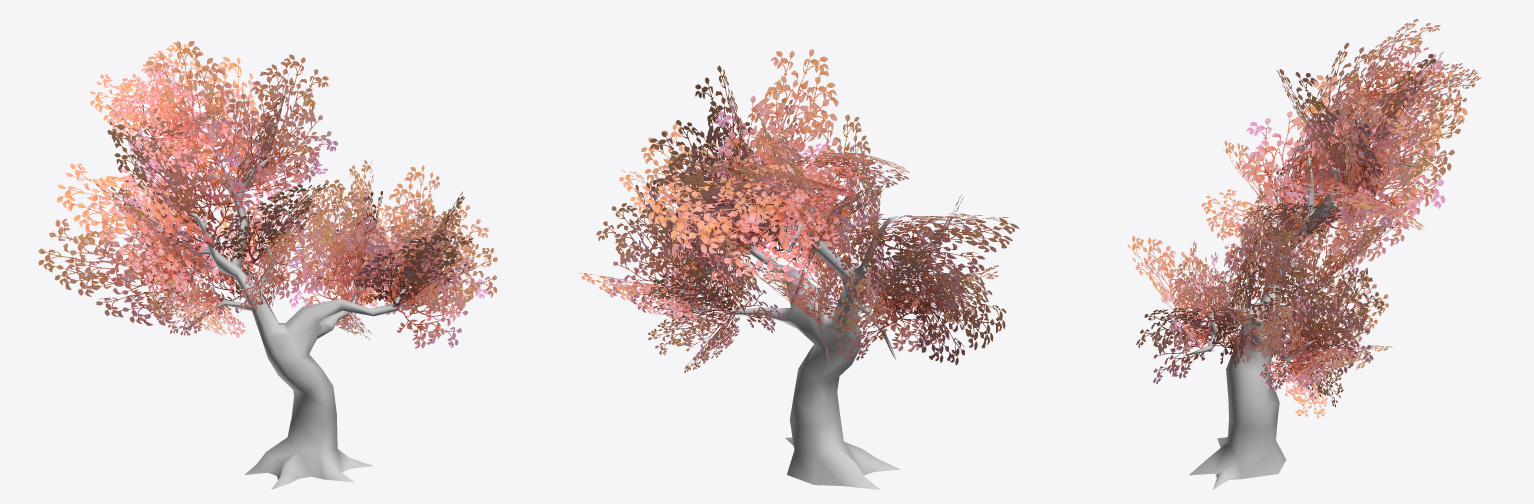
The model's file is SM_EN_2011_shu01.FBX.
3 views of the same model, side by side, from view 1: azimuth 30°, elevation 25°; view 2: azimuth 150°, elevation 25°; view 3: azimuth 270°, elevation 25° (orthographic). The views are drawn at different scales.
Visible parts, largest first — view 1: SM_EN_2011_shu0102, SM_EN_2011_shu0101; view 2: SM_EN_2011_shu0102, SM_EN_2011_shu0101; view 3: SM_EN_2011_shu0102, SM_EN_2011_shu0101.
Part boxes in pixels (x1,y1,x2,y2): SM_EN_2011_shu0102: (38, 41, 497, 348); SM_EN_2011_shu0101: (154, 151, 443, 489); SM_EN_2011_shu0102: (579, 49, 1019, 372); SM_EN_2011_shu0101: (684, 168, 900, 489); SM_EN_2011_shu0102: (1127, 19, 1481, 418); SM_EN_2011_shu0101: (1183, 142, 1429, 489).
Size of the model in its own units: 1030 by 890 by 765.
